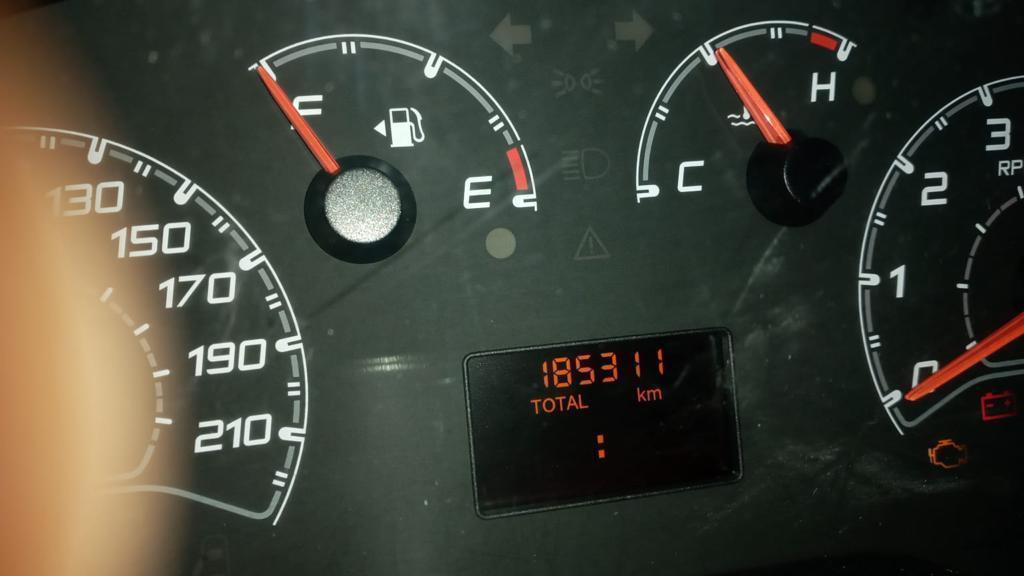1: (541, 360, 549, 388), (656, 348, 664, 375), (633, 351, 641, 377)
3: (599, 351, 618, 383)
5: (574, 354, 594, 386)
8: (551, 356, 572, 388)
X: (595, 433, 606, 460), (541, 397, 556, 413), (565, 394, 579, 410), (529, 398, 542, 415), (646, 388, 663, 401), (554, 395, 566, 412), (577, 393, 589, 409), (636, 386, 646, 402)
odometer: (461, 325, 745, 521)
